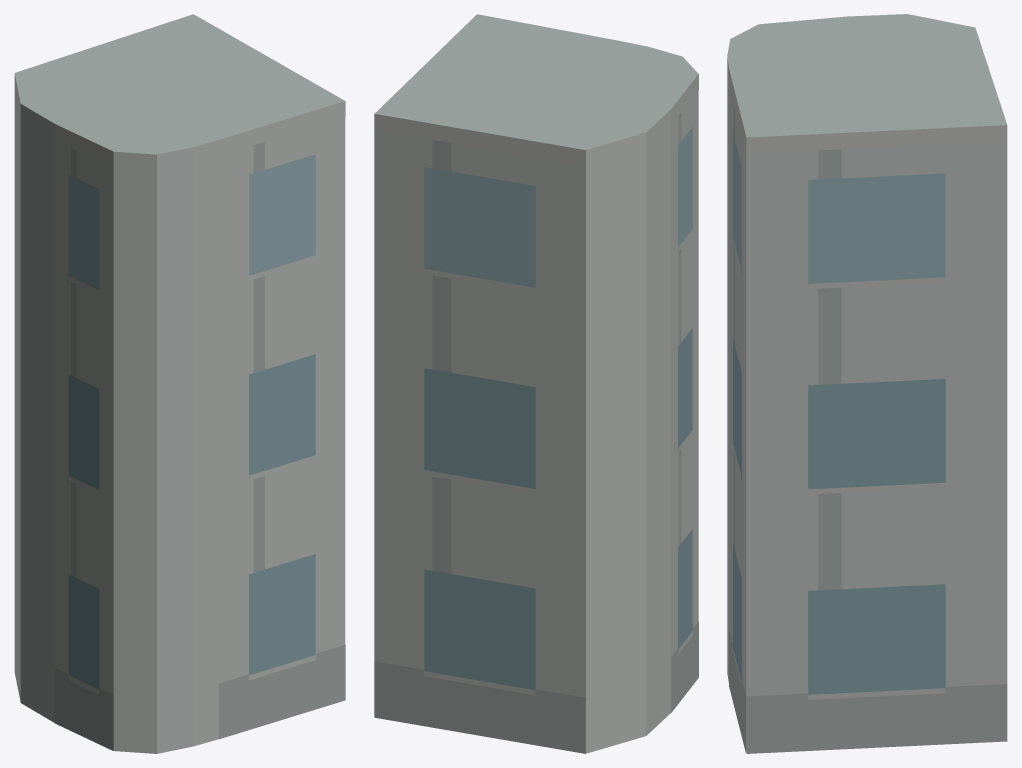
Rendered from survey-upis-32634305.glb.
3 views of the same model, side by side, from view 1: azimuth 30°, elevation 25°; view 2: azimuth 150°, elevation 25°; view 3: azimuth 270°, elevation 25° (orthographic). The views are drawn at different scales.
Visible parts, largest first — view 1: survey-upis-32634305.tmp; view 2: survey-upis-32634305.tmp; view 3: survey-upis-32634305.tmp.
Boxes of the visible parts, x1,y1,x2,y2 form: survey-upis-32634305.tmp: (14, 14, 345, 753); survey-upis-32634305.tmp: (374, 14, 698, 753); survey-upis-32634305.tmp: (727, 14, 1007, 753).
Size of the model in its own units: 3.94 by 9.15 by 3.78.
